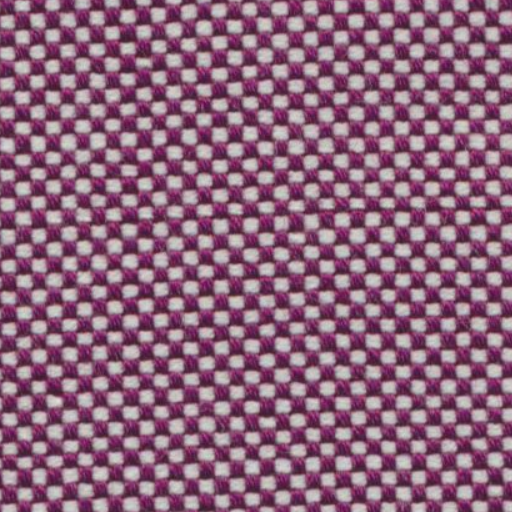TuoSha: (8, 174, 505, 240)
